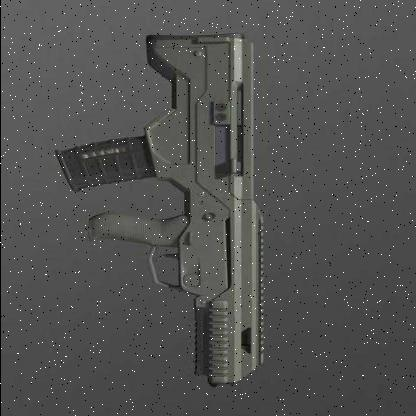rifle: (31, 11, 313, 388)
